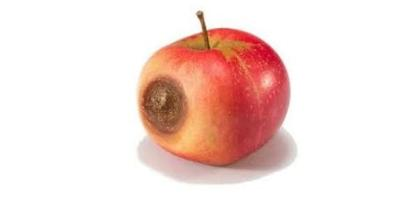defect: (139, 64, 194, 146)
